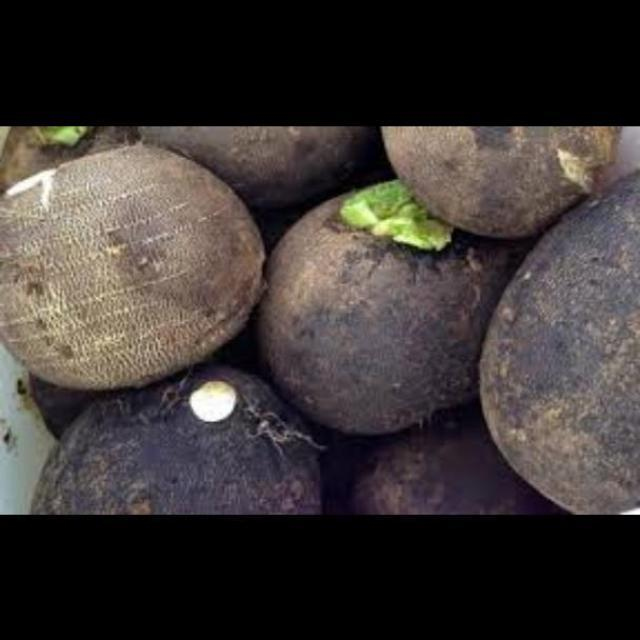redka: (256, 173, 516, 440), (1, 142, 264, 382), (478, 162, 640, 514), (20, 358, 321, 514), (382, 125, 626, 239), (125, 125, 384, 214), (348, 412, 528, 514), (0, 125, 144, 191)
